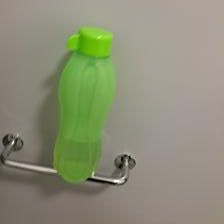bottle: (53, 25, 116, 188)
